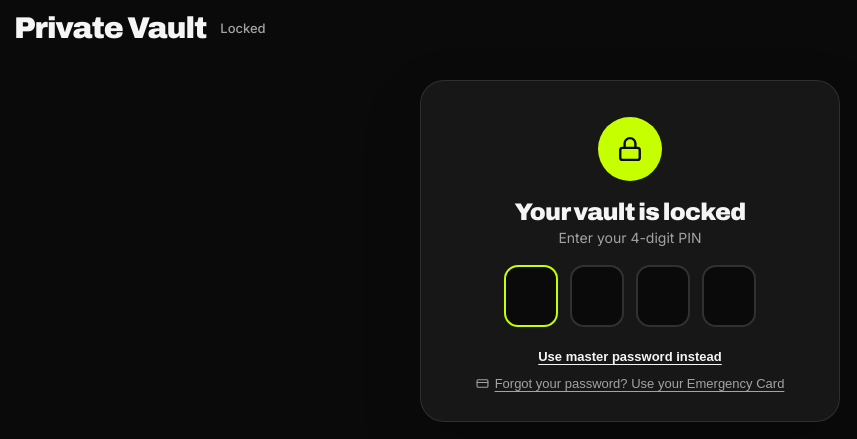
it: Vault lock screen › shows one calm card with the PIN, the password switch and the Emergency Card, and no factory reset
The image size is (857, 439).
expect the heading "Your vault is locked" is shown: met, box x1=514 y1=199 x2=746 y2=225
expect the text "Enter your 4-digit PIN" is shown: met, box x1=558 y1=229 x2=702 y2=246
What coordinates should you click on to do the following:
click the button "Use master password instead"
I would click on:
 (630, 356)
Its box is x1=536 y1=347 x2=724 y2=366.
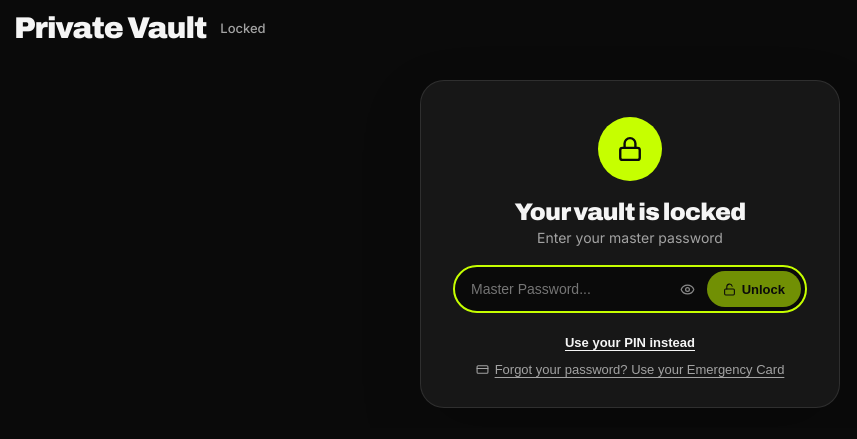
expect the password field labelled "Master Password" is shown: met, box x1=471 y1=273 x2=668 y2=305
expect the button "Use your PIN instead" is shown: met, box x1=563 y1=333 x2=697 y2=352
